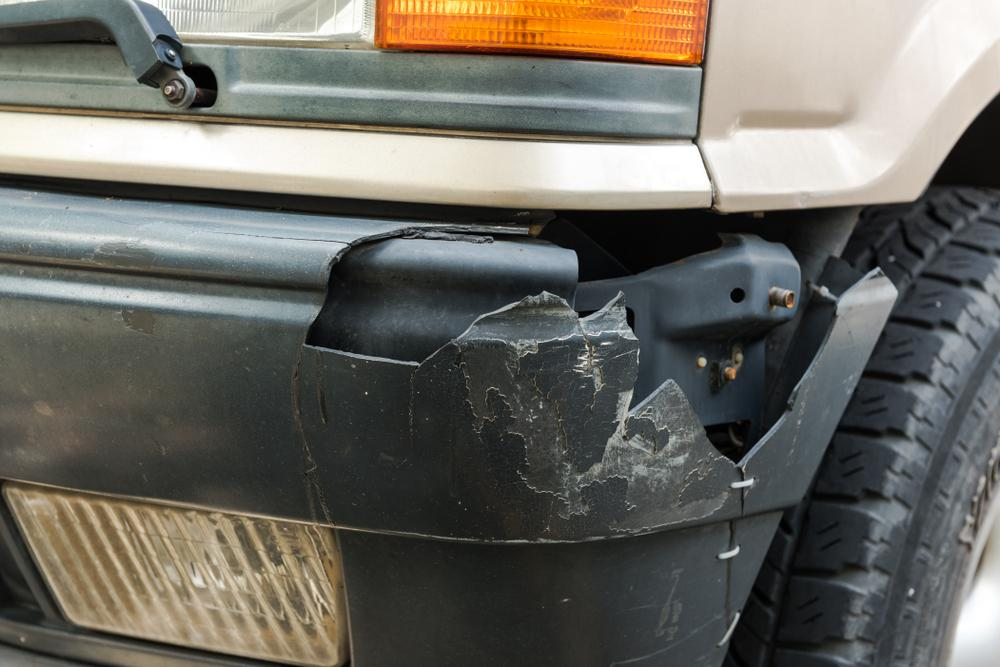crack: (299, 226, 879, 472)
